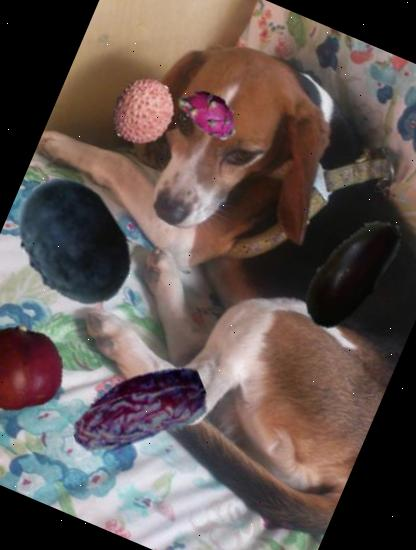Blueberry: (0, 154, 161, 332)
Dates: (47, 320, 229, 502)
Eggplant: (265, 184, 416, 358)
Lychee: (98, 67, 188, 157)
Nectarine: (0, 308, 76, 427)
Pitahaya: (166, 72, 250, 158)
